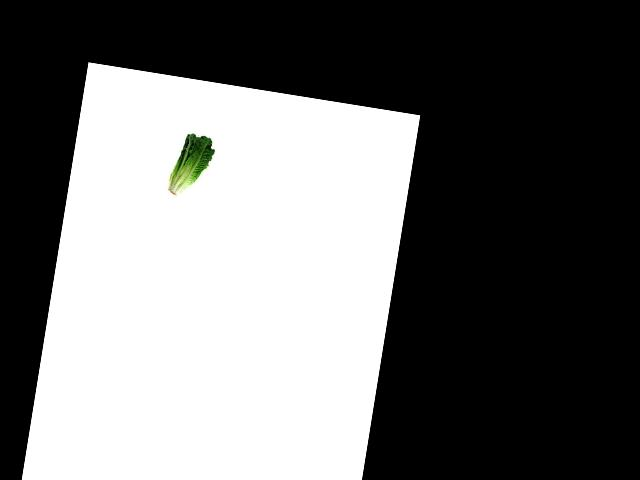lettuce: (164, 129, 216, 203)
